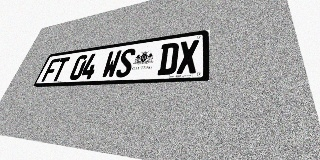0: (68, 54, 89, 80)
4: (79, 53, 100, 80)
D: (157, 42, 179, 75)
F: (41, 58, 61, 82)
S: (115, 48, 136, 78)
T: (50, 57, 70, 81)
W: (100, 50, 122, 78)
X: (176, 39, 199, 74)
